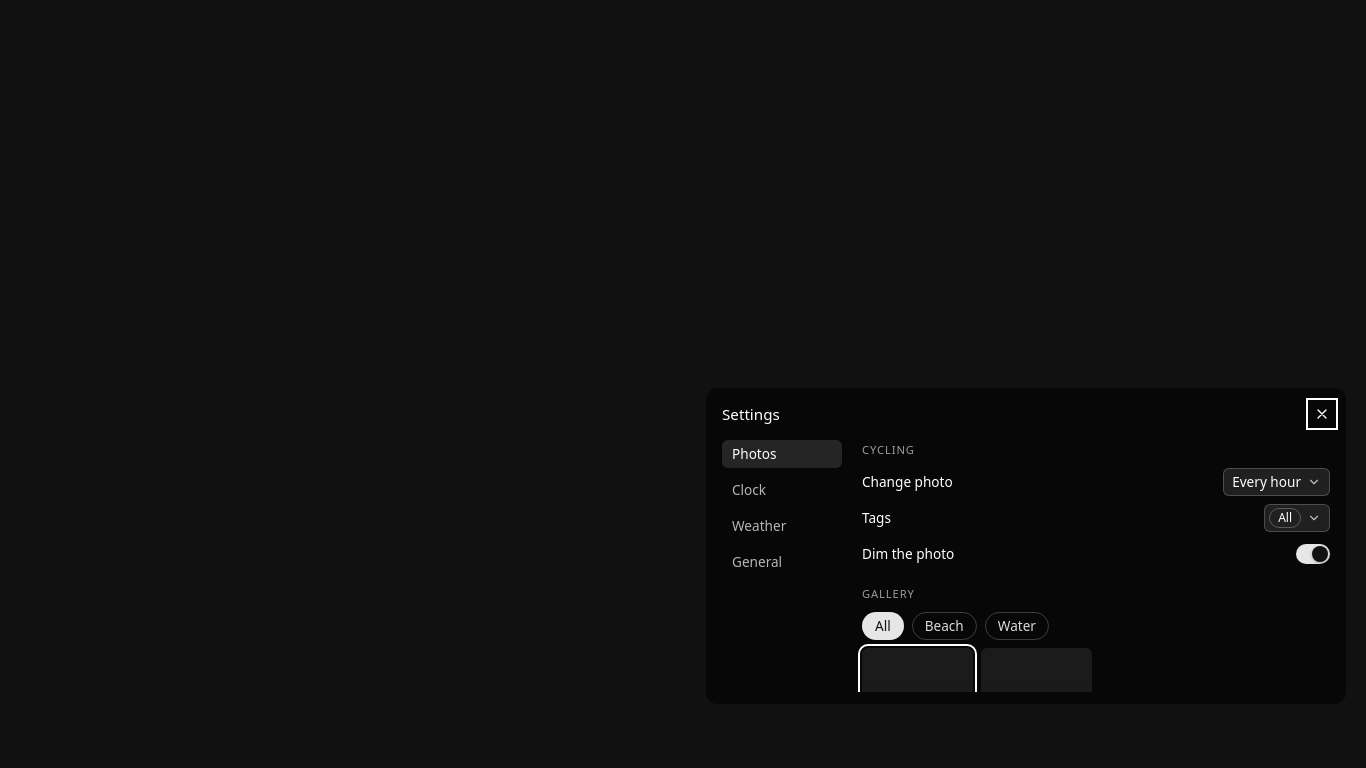
Test: SettingsPanel › sections › switches section from the sidebar
The width and height of the screenshot is (1366, 768).
Click the tab "Clock" at (782, 490), box x1=722 y1=476 x2=842 y2=504
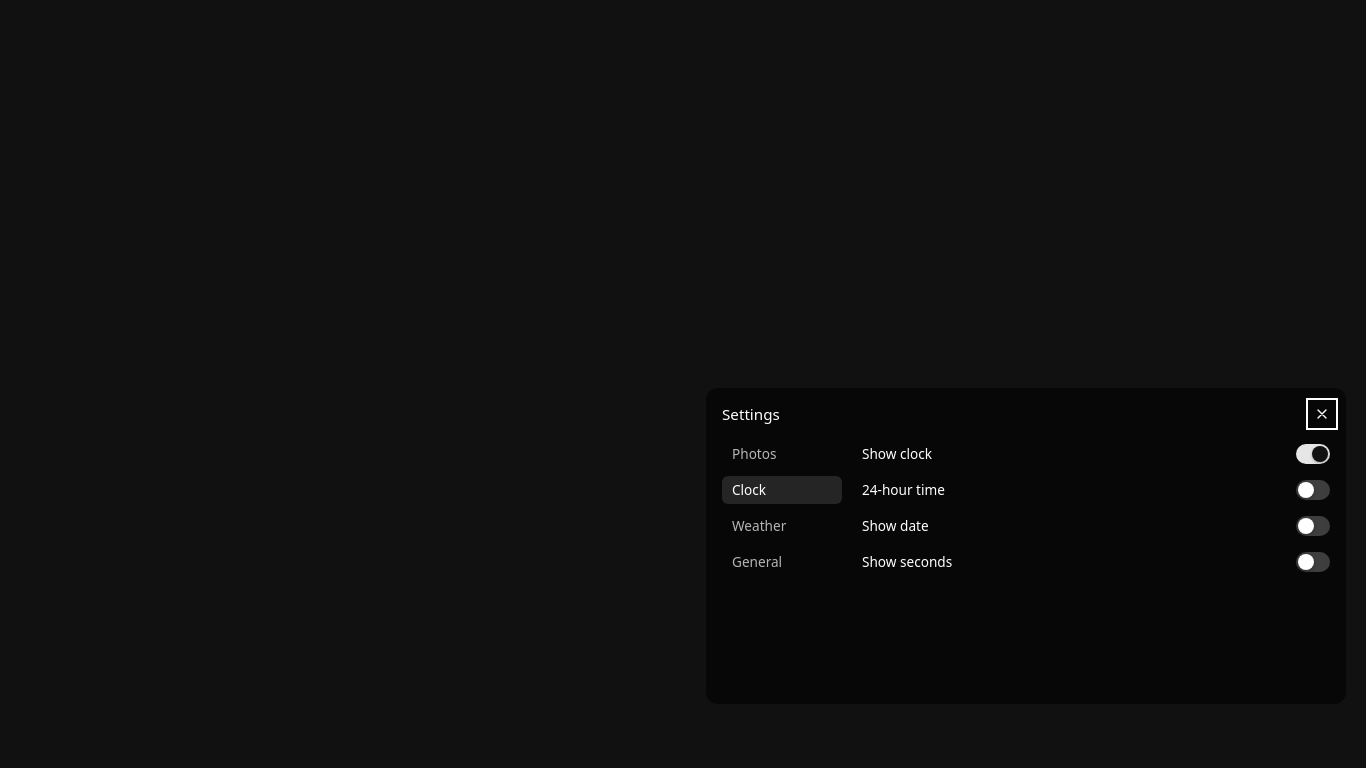
Expected: the switch labelled "Show clock" is shown, x1=1296 y1=444 x2=1330 y2=464
Result: the panel "clock" is shown at x1=862 y1=444 x2=1330 y2=572
Result: the text labelled "Change photo" is gone
